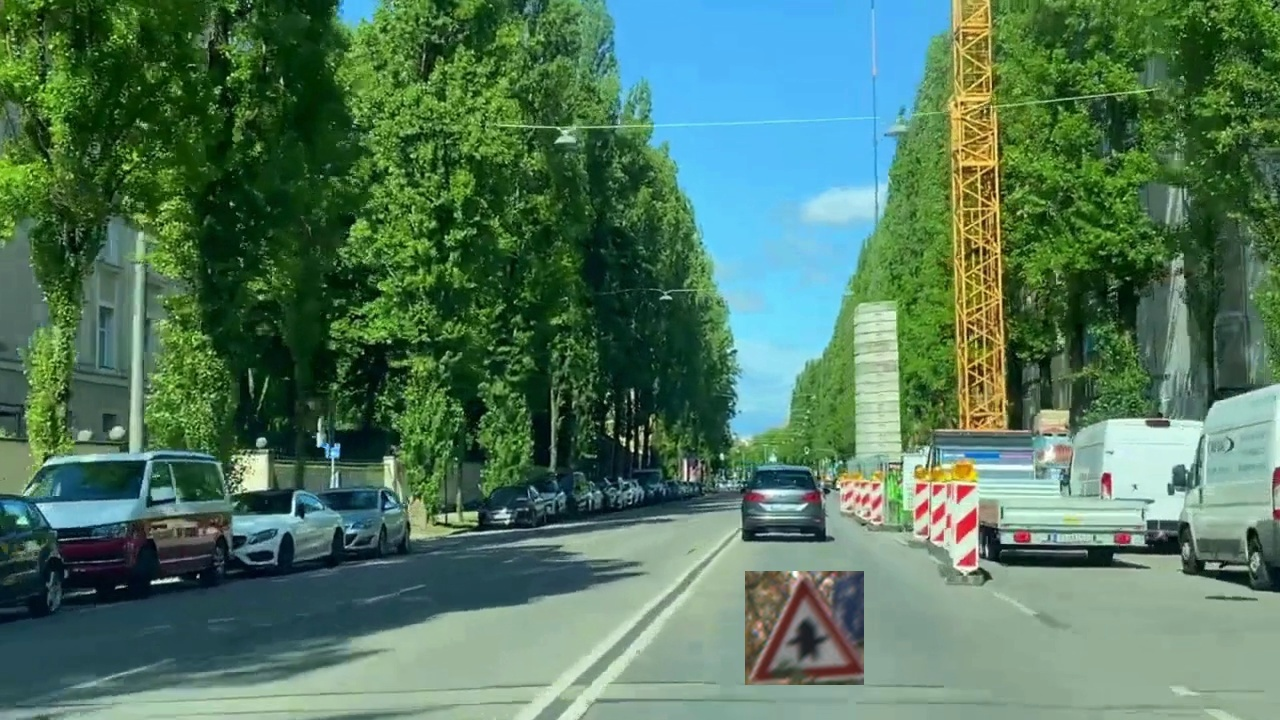Right-of-way: (745, 571, 864, 685)
